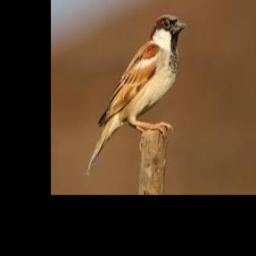Sparrow: (85, 15, 186, 177)
